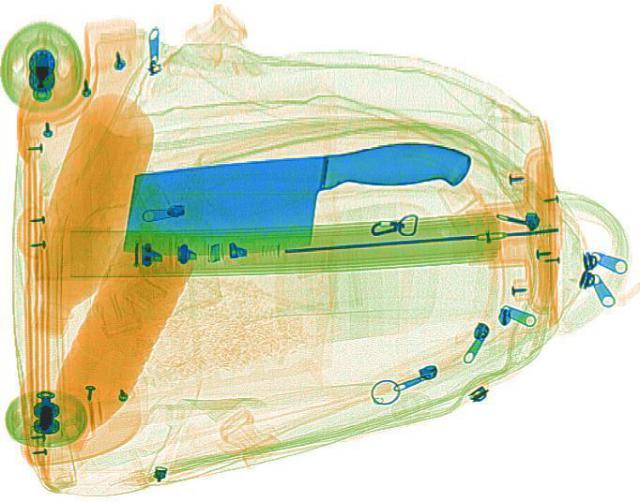Knife: (107, 136, 483, 264)
